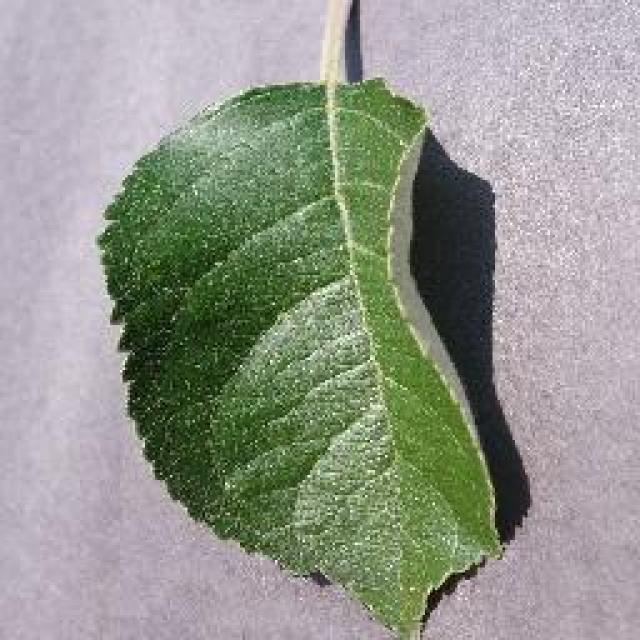apple healthy: (95, 72, 513, 638)
